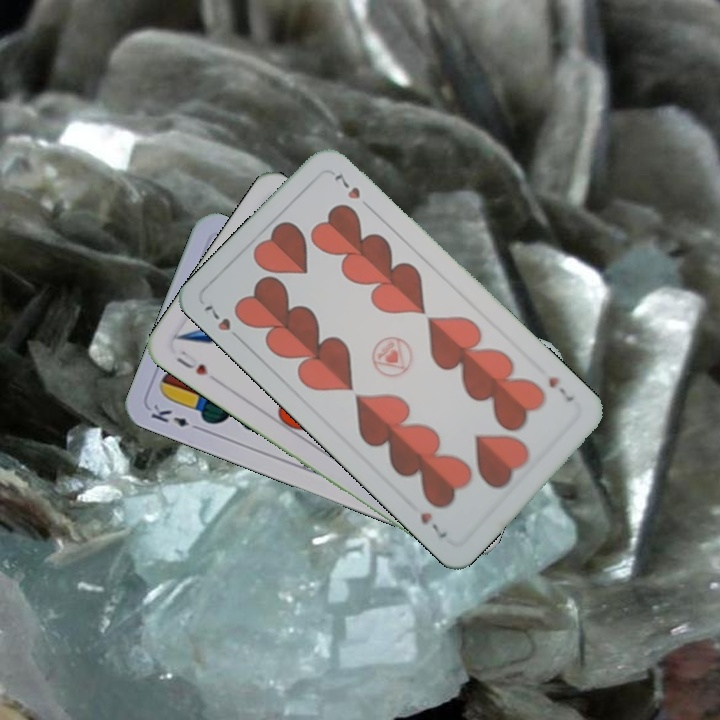EK: (147, 400, 204, 434)
H7: (199, 301, 234, 334), (544, 372, 577, 405)
HU: (172, 346, 211, 378)
